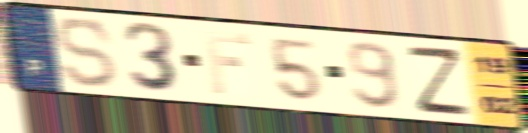3: (121, 20, 183, 96)
5: (266, 36, 327, 103)
9: (344, 39, 400, 111)
F: (200, 29, 254, 97)
S: (54, 15, 122, 90)
Z: (403, 44, 473, 117)
